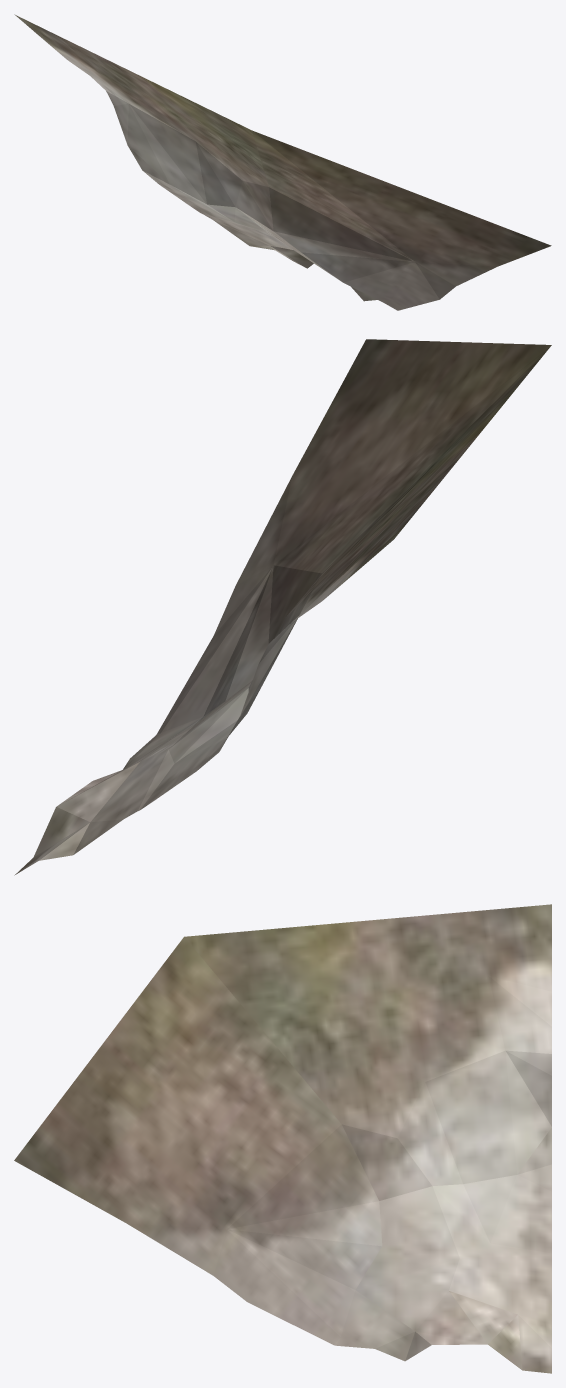
The picture shows the model from 3 angles, top to bottom: view 1: azimuth 30°, elevation 25°; view 2: azimuth 150°, elevation 25°; view 3: azimuth 270°, elevation 25°; orthographic projection. The views are drawn at different scales.
Size of the model in its own units: 1.54 by 1.66 by 2.47.
Materials: 1 (1 with a texture image).
